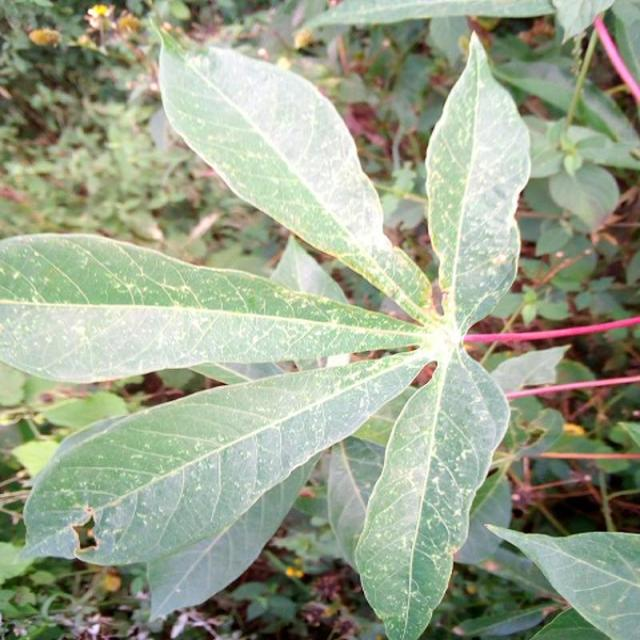cassava leaf: (3, 24, 553, 637), (18, 348, 430, 629), (154, 24, 432, 321), (0, 229, 431, 384), (423, 29, 532, 333)
